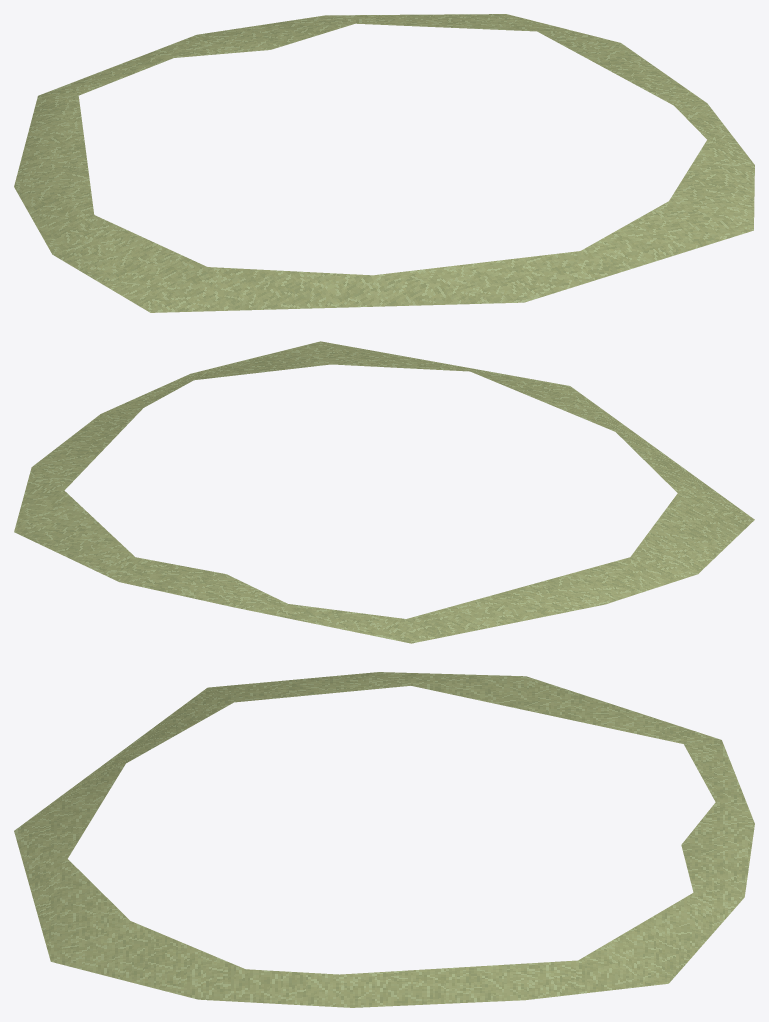
The model's file is kd_stage_13612f_4_34.glb.
3 views of the same model, one above another, from view 1: azimuth 30°, elevation 25°; view 2: azimuth 150°, elevation 25°; view 3: azimuth 270°, elevation 25° (orthographic). The views are drawn at different scales.
Parts seen in each view (by area): view 1: kd_stage_13612f_4_34; view 2: kd_stage_13612f_4_34; view 3: kd_stage_13612f_4_34.
Boxes of the visible parts, x1,y1,x2,y2 form: kd_stage_13612f_4_34: (14,14,754,312); kd_stage_13612f_4_34: (14,341,754,643); kd_stage_13612f_4_34: (14,672,754,1007).
Bounding box in the file's own units: 11.57 × 0.345 × 10.67.
Materials: 1 (1 with a texture image).
